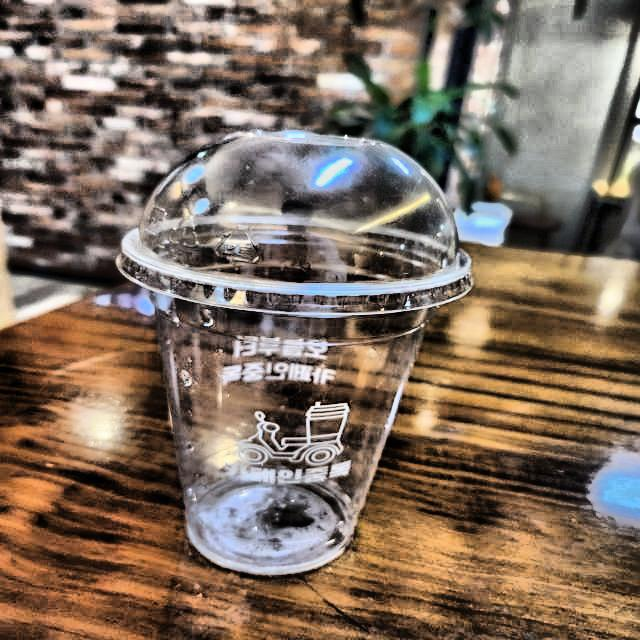plastic cup: (100, 108, 502, 596)
